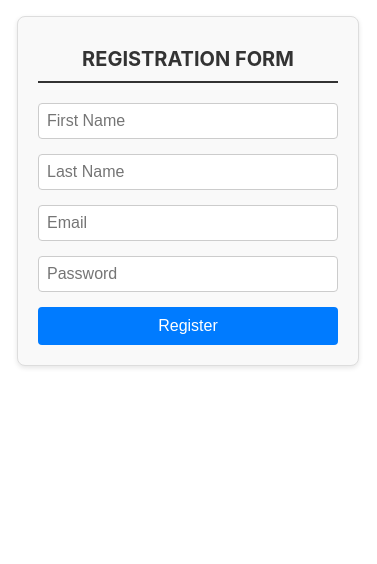
Scenario: UserForm › when form is invalid should disable register button
The image size is (377, 564).
Type "invalidemail" into the field with placeholder "Email" at (188, 223), box [38,205,338,241]
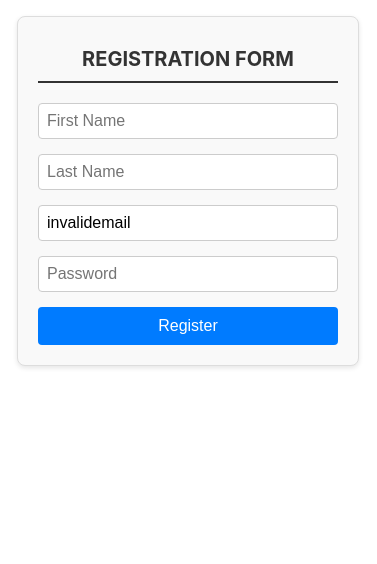
Type "abc" into the password field with placeholder "Password" at (188, 274), box [38,256,338,292]
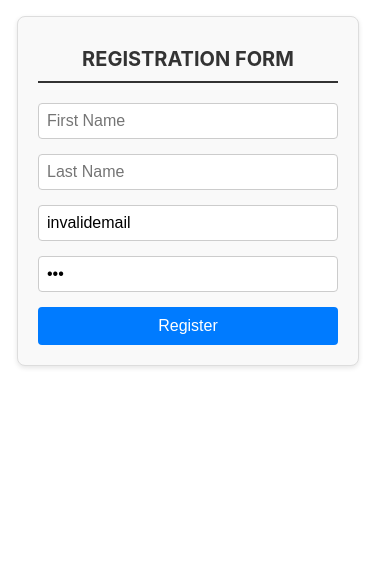
Click the button "Register" at (188, 326), box [38,307,338,345]
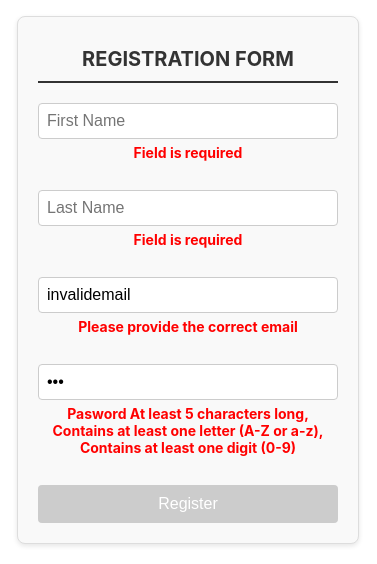
Expected: the button "Register" is disabled, [38,485,338,523]
